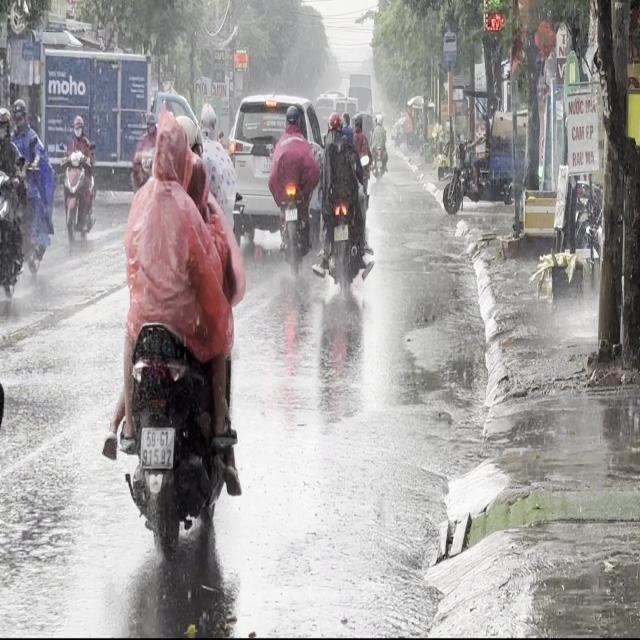helmet: (150, 112, 191, 188), (172, 112, 203, 164), (198, 102, 216, 139), (11, 96, 26, 128), (328, 110, 342, 134), (0, 106, 10, 135)
licenseplate: (101, 88, 250, 611), (317, 107, 373, 294)
nohelmet: (140, 427, 173, 467), (333, 224, 348, 240)
